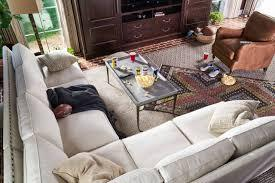chair: (210, 13, 275, 70)
light: (9, 0, 52, 47)
sofa: (2, 43, 275, 183)
table: (100, 52, 185, 128)
